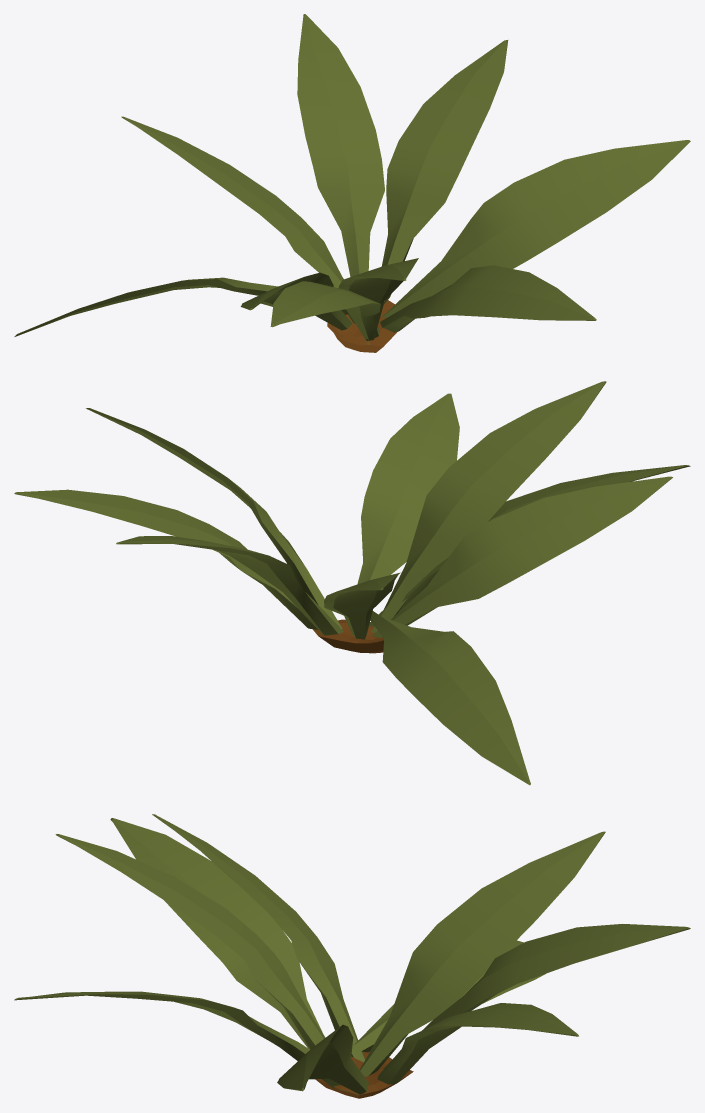
File: Environment_Weed.fbx
3 views of the same model, one above another, from view 1: azimuth 30°, elevation 25°; view 2: azimuth 150°, elevation 25°; view 3: azimuth 270°, elevation 25° (orthographic). The views are drawn at different scales.
Parts seen in each view (by area): view 1: Weed1; view 2: Weed1; view 3: Weed1.
Part boxes in pixels (box(x1,y1,x2,y2)): Weed1: box(14, 14, 690, 352); Weed1: box(14, 381, 690, 785); Weed1: box(14, 814, 690, 1098).
Size of the model in its own units: 15.21 by 5.11 by 14.69.
